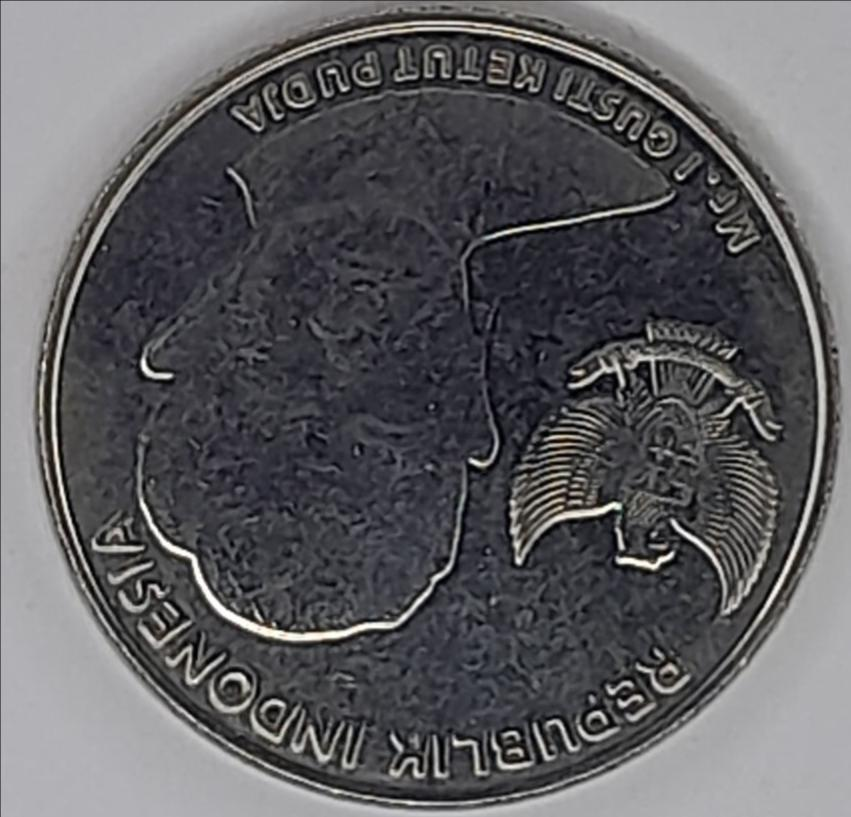coin_1000_e2016: (14, 16, 840, 817)
